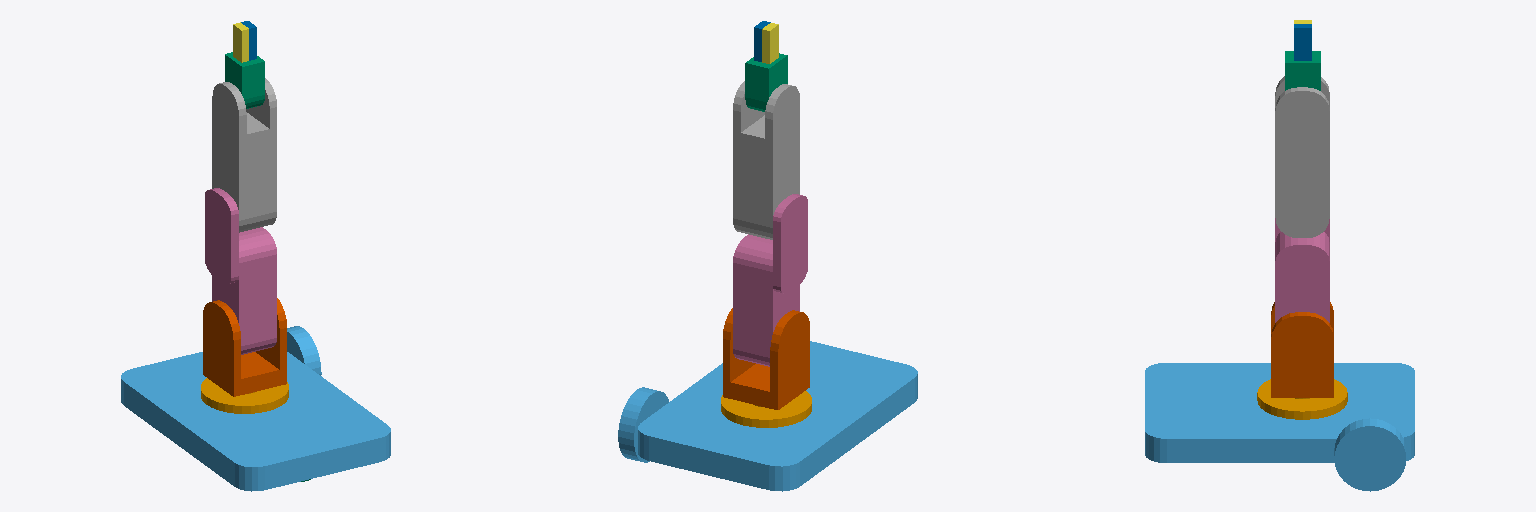
The robot description file, URDF, robot "robotics_project":
<robot name="robotics_project" version="1.0">
  <joint name="base_link_joint" type="fixed">
    <origin rpy="0.00000 0.00000 0.00000" xyz="0.00000 0.50000 0.30000"/>
    <parent link="body_link"/>
    <child link="base_link"/>
  </joint>
  <joint name="caster_link_joint" type="fixed">
    <origin rpy="0.00000 0.00000 0.00000" xyz="0.00000 -2.00000 -0.30000"/>
    <parent link="body_link"/>
    <child link="caster_link"/>
  </joint>
  <joint name="gripper_l_link_joint" type="prismatic">
    <limit lower="0.00000" upper="0.20000" effort="0.00000" velocity="0.00000"/>
    <origin rpy="0.00000 0.00000 0.00000" xyz="-0.10000 -0.00000 0.80000"/>
    <parent link="wrist_link"/>
    <child link="gripper_l_link"/>
    <axis xyz="-1.00000 0.00000 0.00000"/>
  </joint>
  <joint name="gripper_r_link_joint" type="prismatic">
    <limit lower="0.00000" upper="0.20000" effort="0.00000" velocity="0.00000"/>
    <origin rpy="0.00000 0.00000 0.00000" xyz="0.10000 -0.00000 0.80000"/>
    <parent link="wrist_link"/>
    <child link="gripper_r_link"/>
    <axis xyz="1.00000 0.00000 0.00000"/>
  </joint>
  <joint name="lower_link_joint" type="continuous">
    <limit lower="0" upper="0" effort="0.00000" velocity="0.00000"/>
    <origin rpy="0.00000 0.00000 0.00000" xyz="0.00000 0.00000 0.40000"/>
    <parent link="base_link"/>
    <child link="lower_link"/>
    <axis xyz="0.00000 0.00000 1.00000"/>
  </joint>
  <joint name="mid_link_joint" type="revolute">
    <limit lower="-2.00000" upper="2.00000" effort="0.00000" velocity="0.00000"/>
    <origin rpy="0.00000 0.00000 0.00000" xyz="-0.00000 -0.00000 1.30000"/>
    <parent link="lower_link"/>
    <child link="mid_link"/>
    <axis xyz="1.00000 0.00000 0.00000"/>
  </joint>
  <joint name="upper_link_joint" type="revolute">
    <limit lower="-2.00000" upper="2.00000" effort="0.00000" velocity="0.00000"/>
    <origin rpy="0.00000 0.00000 0.00000" xyz="0.00000 -0.00000 3.10000"/>
    <parent link="mid_link"/>
    <child link="upper_link"/>
    <axis xyz="1.00000 0.00000 0.00000"/>
  </joint>
  <joint name="wheel_l_link_joint" type="continuous">
    <limit lower="0" upper="0" effort="0.00000" velocity="0.00000"/>
    <origin rpy="0.00000 0.00000 0.00000" xyz="-2.00000 2.00000 0.00000"/>
    <parent link="body_link"/>
    <child link="wheel_l_link"/>
    <axis xyz="-1.00000 0.00000 0.00000"/>
  </joint>
  <joint name="wheel_r_link_joint" type="continuous">
    <limit lower="0" upper="0" effort="0.00000" velocity="0.00000"/>
    <origin rpy="0.00000 0.00000 0.00000" xyz="2.00000 2.00000 0.00000"/>
    <parent link="body_link"/>
    <child link="wheel_r_link"/>
    <axis xyz="1.00000 0.00000 0.00000"/>
  </joint>
  <joint name="wrist_link_joint" type="revolute">
    <limit lower="-2.00000" upper="2.00000" effort="0.00000" velocity="0.00000"/>
    <origin rpy="0.00000 0.00000 0.00000" xyz="0.00000 0.00000 2.80000"/>
    <parent link="upper_link"/>
    <child link="wrist_link"/>
    <axis xyz="1.00000 0.00000 0.00000"/>
  </joint>
  <link name="base_link">
    <collision name="base_1_collision">
      <origin rpy="0.00000 0.00000 0.00000" xyz="0.00000 0.00000 0.10000"/>
      <geometry>
        <mesh filename="package://robotics-project/meshes/stl/base_1.stl" scale="1.00000 1.00000 1.00000"/>
      </geometry>
    </collision>
    <collision name="base_2_collision">
      <origin rpy="0.00000 0.00000 0.00000" xyz="0.00000 0.00000 0.30000"/>
      <geometry>
        <mesh filename="package://robotics-project/meshes/stl/base_2.stl" scale="1.00000 1.00000 1.00000"/>
      </geometry>
    </collision>
    <inertial>
      <inertia ixx="0.00287" ixy="0.00000" ixz="-0.00000" iyy="0.00287" iyz="-0.00000" izz="0.00561"/>
      <origin rpy="0.00000 0.00000 0.00000" xyz="0.00000 0.00000 0.20000"/>
      <mass value="0.02000"/>
    </inertial>
    <visual name="base_1">
      <origin rpy="0.00000 0.00000 0.00000" xyz="0.00000 0.00000 0.10000"/>
      <geometry>
        <mesh filename="package://robotics-project/meshes/stl/base_1.stl" scale="1.00000 1.00000 1.00000"/>
      </geometry>
    </visual>
    <visual name="base_2">
      <origin rpy="0.00000 0.00000 0.00000" xyz="0.00000 0.00000 0.30000"/>
      <geometry>
        <mesh filename="package://robotics-project/meshes/stl/base_2.stl" scale="1.00000 1.00000 1.00000"/>
      </geometry>
    </visual>
  </link>
  <link name="body_link">
    <collision name="body_collision">
      <origin rpy="0.00000 0.00000 0.00000" xyz="0.00000 0.00000 0.00000"/>
      <geometry>
        <box size="4.00000 6.00000 0.60000"/>
      </geometry>
    </collision>
    <inertial>
      <inertia ixx="0.02979" ixy="-0.00000" ixz="0.00000" iyy="0.01342" iyz="-0.00000" izz="0.04261"/>
      <origin rpy="0.00000 0.00000 0.00000" xyz="-0.00000 0.00000 -0.00000"/>
      <mass value="0.01000"/>
    </inertial>
    <visual name="body">
      <origin rpy="0.00000 0.00000 0.00000" xyz="0.00000 0.00000 0.00000"/>
      <geometry>
        <mesh filename="package://robotics-project/meshes/stl/body.stl" scale="1.00000 1.00000 1.00000"/>
      </geometry>
    </visual>
  </link>
  <link name="caster_link">
    <collision name="caster_collision">
      <origin rpy="0.00000 0.00000 0.00000" xyz="0.00000 0.00000 0.00000"/>
      <geometry>
        <sphere radius="0.51961"/>
      </geometry>
    </collision>
    <inertial>
      <inertia ixx="0.00099" ixy="-0.00000" ixz="0.00000" iyy="0.00099" iyz="-0.00000" izz="0.00099"/>
      <origin rpy="0.00000 0.00000 0.00000" xyz="0.00000 0.00000 0.00000"/>
      <mass value="0.01000"/>
    </inertial>
    <visual name="caster">
      <origin rpy="0.00000 0.00000 0.00000" xyz="0.00000 0.00000 0.00000"/>
      <geometry>
        <mesh filename="package://robotics-project/meshes/stl/caster.stl" scale="1.00000 1.00000 1.00000"/>
      </geometry>
    </visual>
  </link>
  <link name="gripper_l_link">
    <collision name="gripper_l_collision">
      <origin rpy="0.00000 0.00000 0.00000" xyz="-0.00000 0.00000 0.40000"/>
      <geometry>
        <mesh filename="package://robotics-project/meshes/stl/gripper_l.stl" scale="1.00000 1.00000 1.00000"/>
      </geometry>
    </collision>
    <inertial>
      <inertia ixx="0.00067" ixy="-0.00000" ixz="-0.00000" iyy="0.00057" iyz="0.00000" izz="0.00017"/>
      <origin rpy="0.00000 0.00000 0.00000" xyz="0.00000 0.00000 0.40000"/>
      <mass value="0.01000"/>
    </inertial>
    <visual name="gripper_l">
      <origin rpy="0.00000 0.00000 0.00000" xyz="0.00000 0.00000 0.40000"/>
      <geometry>
        <mesh filename="package://robotics-project/meshes/stl/gripper_l.stl" scale="1.00000 1.00000 1.00000"/>
      </geometry>
    </visual>
  </link>
  <link name="gripper_r_link">
    <collision name="gripper_r_collision">
      <origin rpy="0.00000 0.00000 0.00000" xyz="-0.00000 0.00000 0.40000"/>
      <geometry>
        <mesh filename="package://robotics-project/meshes/stl/gripper_r.stl" scale="1.00000 1.00000 1.00000"/>
      </geometry>
    </collision>
    <inertial>
      <inertia ixx="0.00067" ixy="-0.00000" ixz="-0.00000" iyy="0.00057" iyz="0.00000" izz="0.00017"/>
      <origin rpy="0.00000 0.00000 0.00000" xyz="0.00000 0.00000 0.40000"/>
      <mass value="0.01000"/>
    </inertial>
    <visual name="gripper_r">
      <origin rpy="0.00000 0.00000 0.00000" xyz="0.00000 0.00000 0.40000"/>
      <geometry>
        <mesh filename="package://robotics-project/meshes/stl/gripper_r.stl" scale="1.00000 1.00000 1.00000"/>
      </geometry>
    </visual>
  </link>
  <link name="lower_link">
    <collision name="lower_collision">
      <origin rpy="0.00000 0.00000 0.00000" xyz="0.00000 0.00000 1.00000"/>
      <geometry>
        <mesh filename="package://robotics-project/meshes/stl/lower.stl" scale="1.00000 1.00000 1.00000"/>
      </geometry>
    </collision>
    <inertial>
      <inertia ixx="0.00816" ixy="0.00000" ixz="-0.00000" iyy="0.00867" iyz="-0.00000" izz="0.00289"/>
      <origin rpy="0.00000 0.00000 0.00000" xyz="0.00000 0.00000 0.68757"/>
      <mass value="0.01000"/>
    </inertial>
    <visual name="lower">
      <origin rpy="0.00000 0.00000 0.00000" xyz="0.00000 0.00000 1.00000"/>
      <geometry>
        <mesh filename="package://robotics-project/meshes/stl/lower.stl" scale="1.00000 1.00000 1.00000"/>
      </geometry>
    </visual>
  </link>
  <link name="mid_link">
    <collision name="mid_collision">
      <origin rpy="0.00000 0.00000 0.00000" xyz="0.00000 0.00000 0.90000"/>
      <geometry>
        <mesh filename="package://robotics-project/meshes/stl/mid.stl" scale="1.00000 1.00000 1.00000"/>
      </geometry>
    </collision>
    <collision name="mid_l_collision">
      <origin rpy="0.00000 0.00000 0.00000" xyz="-0.60000 -0.00000 2.40000"/>
      <geometry>
        <mesh filename="package://robotics-project/meshes/stl/mid_l.stl" scale="1.00000 1.00000 1.00000"/>
      </geometry>
    </collision>
    <collision name="mid_r_collision">
      <origin rpy="0.00000 0.00000 0.00000" xyz="0.60000 -0.00000 2.40000"/>
      <geometry>
        <mesh filename="package://robotics-project/meshes/stl/mid_r.stl" scale="1.00000 1.00000 1.00000"/>
      </geometry>
    </collision>
    <inertial>
      <inertia ixx="0.01675" ixy="-0.00000" ixz="0.00000" iyy="0.01425" iyz="0.00000" izz="0.00429"/>
      <origin rpy="0.00000 0.00000 0.00000" xyz="-0.00000 -0.00000 1.90000"/>
      <mass value="0.03000"/>
    </inertial>
    <visual name="mid">
      <origin rpy="0.00000 0.00000 0.00000" xyz="0.00000 0.00000 0.90000"/>
      <geometry>
        <mesh filename="package://robotics-project/meshes/stl/mid.stl" scale="1.00000 1.00000 1.00000"/>
      </geometry>
    </visual>
    <visual name="mid_l">
      <origin rpy="0.00000 0.00000 0.00000" xyz="-0.60000 -0.00000 2.40000"/>
      <geometry>
        <mesh filename="package://robotics-project/meshes/stl/mid_l.stl" scale="1.00000 1.00000 1.00000"/>
      </geometry>
    </visual>
    <visual name="mid_r">
      <origin rpy="0.00000 0.00000 0.00000" xyz="0.60000 -0.00000 2.40000"/>
      <geometry>
        <mesh filename="package://robotics-project/meshes/stl/mid_r.stl" scale="1.00000 1.00000 1.00000"/>
      </geometry>
    </visual>
  </link>
  <link name="upper_link">
    <collision name="upper_collision">
      <origin rpy="0.00000 0.00000 0.00000" xyz="-0.00000 0.00000 1.20000"/>
      <geometry>
        <mesh filename="package://robotics-project/meshes/stl/upper.stl" scale="1.00000 1.00000 1.00000"/>
      </geometry>
    </collision>
    <inertial>
      <inertia ixx="0.01405" ixy="-0.00000" ixz="-0.00000" iyy="0.01386" iyz="0.00000" izz="0.00198"/>
      <origin rpy="0.00000 0.00000 0.00000" xyz="-0.00000 0.00000 0.96137"/>
      <mass value="0.01000"/>
    </inertial>
    <visual name="upper">
      <origin rpy="0.00000 0.00000 0.00000" xyz="0.00000 0.00000 1.20000"/>
      <geometry>
        <mesh filename="package://robotics-project/meshes/stl/upper.stl" scale="1.00000 1.00000 1.00000"/>
      </geometry>
    </visual>
  </link>
  <link name="wheel_l_link">
    <collision name="wheel_l_collision">
      <origin rpy="-0.00000 1.57080 0.00000" xyz="-0.20000 0.00000 0.00000"/>
      <geometry>
        <cylinder radius="0.80000" length="0.40000"/>
      </geometry>
    </collision>
    <inertial>
      <inertia ixx="0.00318" ixy="0.00000" ixz="0.00000" iyy="0.00172" iyz="0.00000" izz="0.00172"/>
      <origin rpy="0.00000 0.00000 0.00000" xyz="-0.20000 0.00000 0.00000"/>
      <mass value="0.01000"/>
    </inertial>
    <visual name="wheel_l">
      <origin rpy="0.00000 0.00000 0.00000" xyz="-0.20000 0.00000 0.00000"/>
      <geometry>
        <mesh filename="package://robotics-project/meshes/stl/wheel_l.stl" scale="1.00000 1.00000 1.00000"/>
      </geometry>
    </visual>
  </link>
  <link name="wheel_r_link">
    <collision name="wheel_r_collision">
      <origin rpy="-0.00000 1.57080 0.00000" xyz="0.20000 0.00000 0.00000"/>
      <geometry>
        <cylinder radius="0.80000" length="0.40000"/>
      </geometry>
    </collision>
    <inertial>
      <inertia ixx="0.00318" ixy="0.00000" ixz="0.00000" iyy="0.00172" iyz="0.00000" izz="0.00172"/>
      <origin rpy="0.00000 0.00000 0.00000" xyz="0.20000 0.00000 0.00000"/>
      <mass value="0.01000"/>
    </inertial>
    <visual name="wheel_r">
      <origin rpy="0.00000 0.00000 0.00000" xyz="0.20000 0.00000 0.00000"/>
      <geometry>
        <mesh filename="package://robotics-project/meshes/stl/wheel_r.stl" scale="1.00000 1.00000 1.00000"/>
      </geometry>
    </visual>
  </link>
  <link name="wrist_link">
    <collision name="wrist_collision">
      <origin rpy="0.00000 0.00000 0.00000" xyz="-0.00000 0.00000 0.10000"/>
      <geometry>
        <mesh filename="package://robotics-project/meshes/stl/attach.stl" scale="1.00000 1.00000 1.00000"/>
      </geometry>
    </collision>
    <inertial>
      <inertia ixx="0.00271" ixy="0.00000" ixz="-0.00000" iyy="0.00251" iyz="0.00000" izz="0.00080"/>
      <origin rpy="0.00000 0.00000 0.00000" xyz="0.00000 -0.00000 0.22890"/>
      <mass value="0.01000"/>
    </inertial>
    <visual name="wrist">
      <origin rpy="0.00000 0.00000 0.00000" xyz="0.00000 -0.00000 0.10000"/>
      <geometry>
        <mesh filename="package://robotics-project/meshes/stl/attach.stl" scale="1.00000 1.00000 1.00000"/>
      </geometry>
    </visual>
  </link>
</robot>

--- Render facts (derived) ---
3 views of the same robot in one strip: view 1: azimuth 30°, elevation 25°; view 2: azimuth 150°, elevation 25°; view 3: azimuth 270°, elevation 25° (orthographic).
Robot: robotics_project — 11 links, 10 joints (3 revolute, 3 continuous, 2 prismatic, 2 fixed); root link body_link; default pose: all joints at 0.
Visible links, largest first — view 1: body_link, mid_link, upper_link, lower_link, base_link, wrist_link, wheel_r_link, gripper_l_link; view 2: body_link, mid_link, upper_link, lower_link, base_link, wheel_r_link, wrist_link, gripper_l_link; view 3: body_link, upper_link, lower_link, mid_link, wheel_r_link, base_link, wrist_link, gripper_r_link.
Boxes of the visible links, box(x1,y1,x2,y2) form: body_link: box(121, 352, 390, 491); mid_link: box(205, 188, 276, 354); upper_link: box(212, 78, 276, 232); lower_link: box(203, 298, 286, 396); base_link: box(201, 378, 288, 413); wrist_link: box(225, 52, 264, 108); wheel_r_link: box(287, 326, 321, 375); gripper_l_link: box(233, 22, 248, 62); body_link: box(638, 341, 917, 491); mid_link: box(733, 194, 807, 366); upper_link: box(733, 81, 799, 239); lower_link: box(723, 308, 809, 409); base_link: box(721, 391, 811, 427); wheel_r_link: box(618, 387, 668, 462); wrist_link: box(745, 53, 787, 111); gripper_l_link: box(762, 23, 778, 63); body_link: box(1145, 363, 1414, 462); upper_link: box(1275, 76, 1329, 237); lower_link: box(1271, 302, 1333, 397); mid_link: box(1275, 218, 1329, 322); wheel_r_link: box(1334, 418, 1405, 491); base_link: box(1257, 379, 1347, 419); wrist_link: box(1285, 51, 1320, 90); gripper_r_link: box(1294, 24, 1311, 60).
Bounding box of the posed robot: 4.4 × 6 × 10.3 m (x, y, z).
Meshes: 14 distinct files referenced, 12 mesh visuals loaded (12 binary STL); not drawn: 2 (reference not matched to a file when rendering).